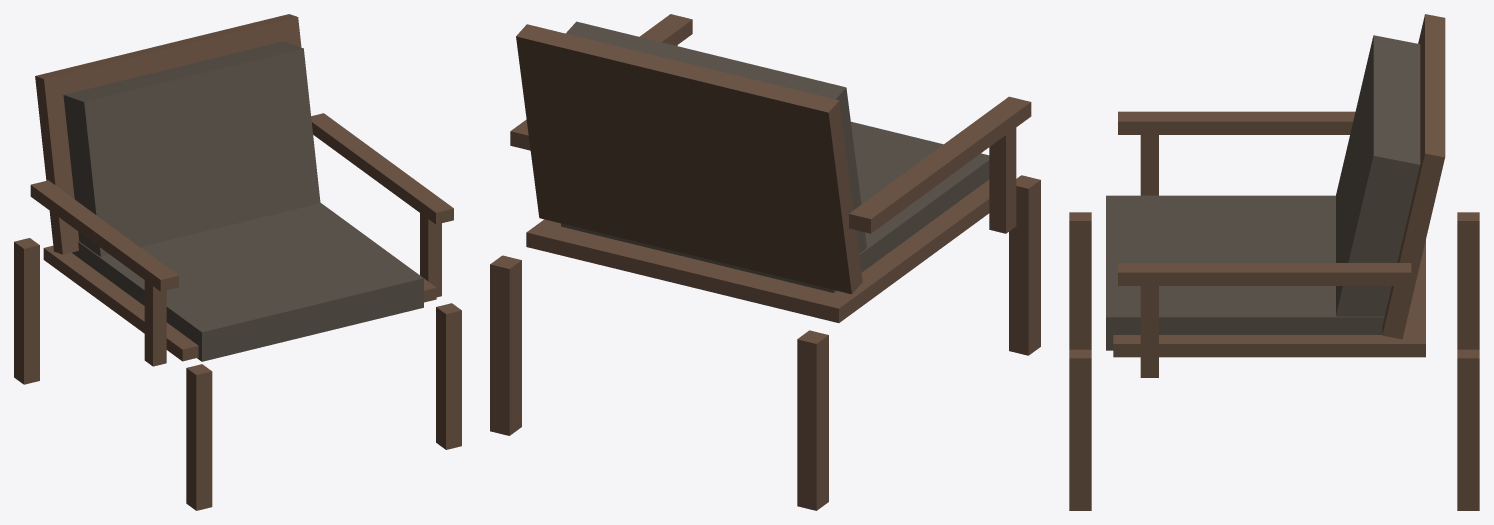
The model's file is main-lounge-chair.glb.
The picture shows the model from 3 angles, left to right: view 1: azimuth 30°, elevation 25°; view 2: azimuth 150°, elevation 25°; view 3: azimuth 270°, elevation 25°; orthographic projection. The views are drawn at different scales.
Parts seen in each view (by area): view 1: fabric, wood; view 2: wood, fabric; view 3: wood, fabric.
Boxes of the visible parts, x1,y1,x2,y2 form: fabric: (63,41,423,361); wood: (14,14,461,510); wood: (490,14,1040,510); fabric: (561,21,989,292); wood: (1069,14,1479,510); fabric: (1106,35,1420,350).
Size of the model in its own units: 0.78 by 0.7998 by 0.84.
